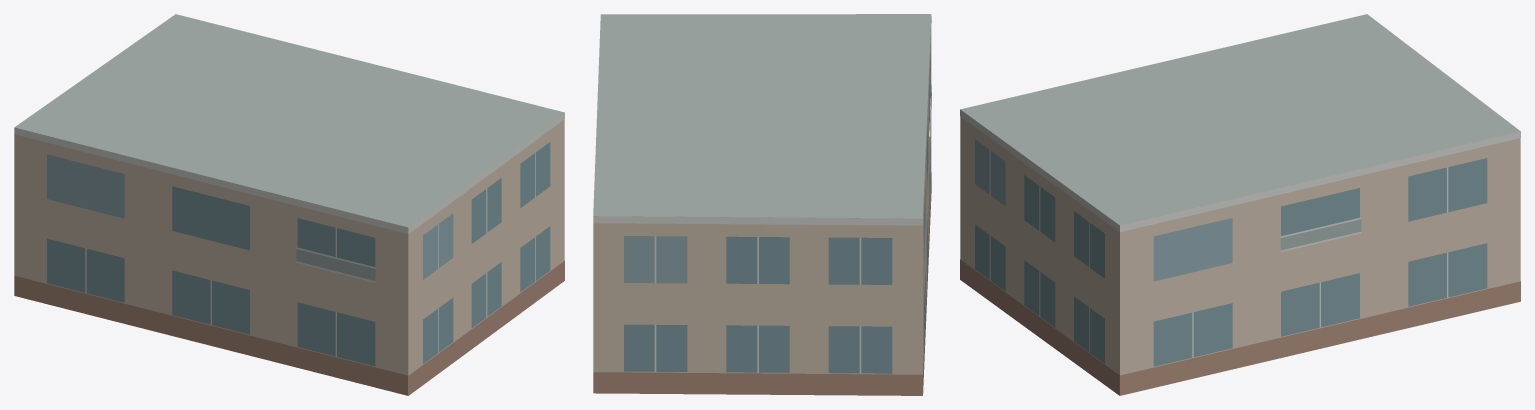
The model's file is survey-upis-32774324.glb.
3 views of the same model, side by side, from view 1: azimuth 30°, elevation 25°; view 2: azimuth 150°, elevation 25°; view 3: azimuth 270°, elevation 25° (orthographic). The views are drawn at different scales.
Visible parts, largest first — view 1: survey-upis-32774324.tmp; view 2: survey-upis-32774324.tmp; view 3: survey-upis-32774324.tmp.
Boxes of the visible parts, <box> form: survey-upis-32774324.tmp: <box>14,14,564,395</box>; survey-upis-32774324.tmp: <box>593,14,931,395</box>; survey-upis-32774324.tmp: <box>960,14,1520,395</box>.
Bounding box in the file's own units: 16.24 × 6.1 × 18.2.
